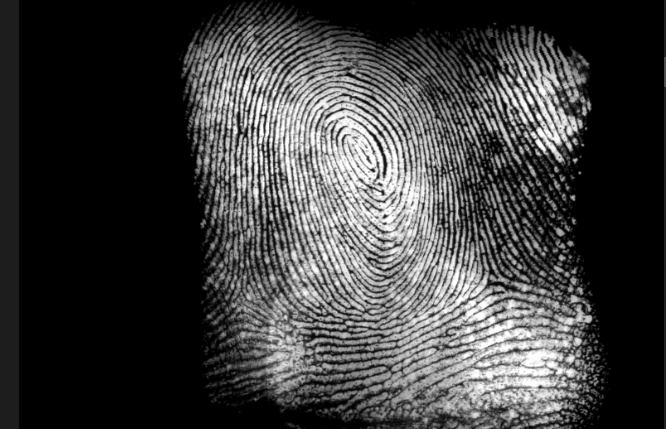deltas: (466, 243, 507, 295), (224, 268, 264, 315)
nucleo: (333, 123, 385, 181)
